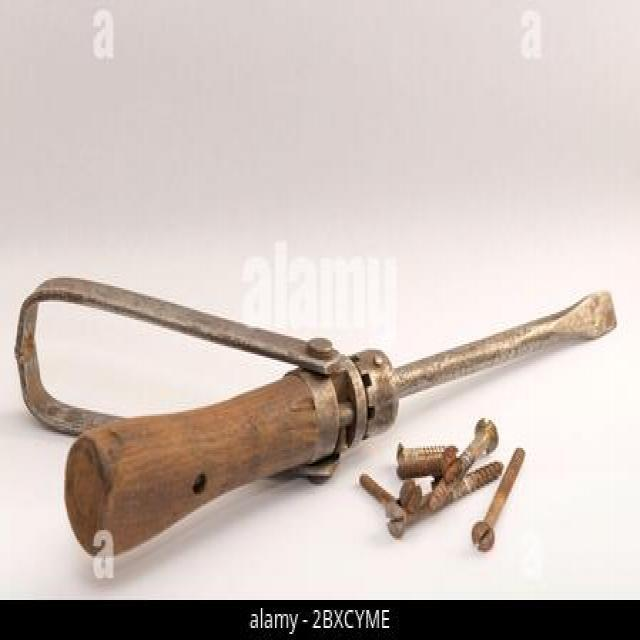screwdriver: (58, 282, 620, 560)
